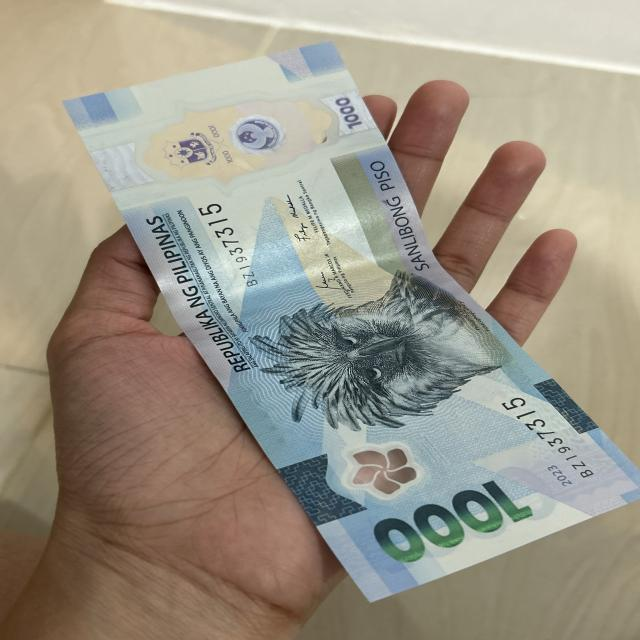clear_window: (110, 90, 406, 185)
eagle: (244, 280, 475, 419)
sampaguita: (323, 441, 426, 497)
serial_number: (503, 399, 600, 481), (189, 200, 268, 286)
